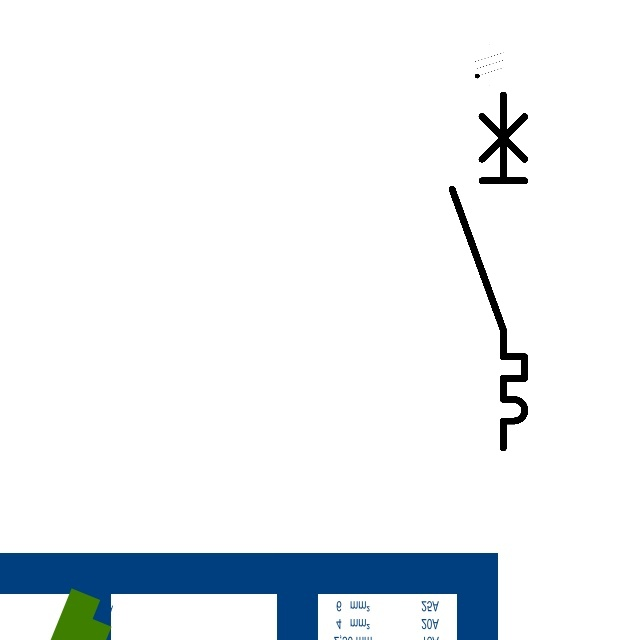interruptor_termomagnetico: (443, 85, 534, 456)
